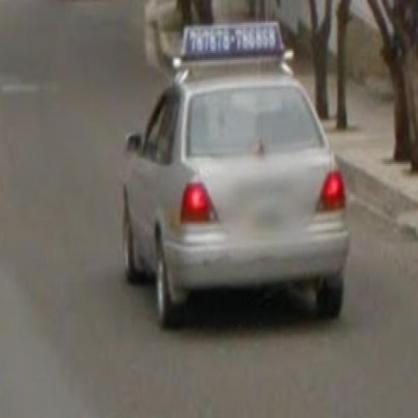car: (120, 60, 350, 336)
